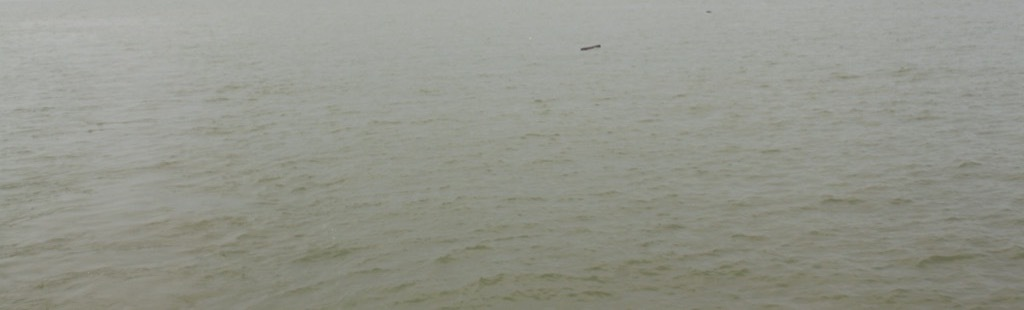organic: (575, 41, 606, 55), (701, 5, 717, 17)
plastic: (521, 31, 538, 47)
